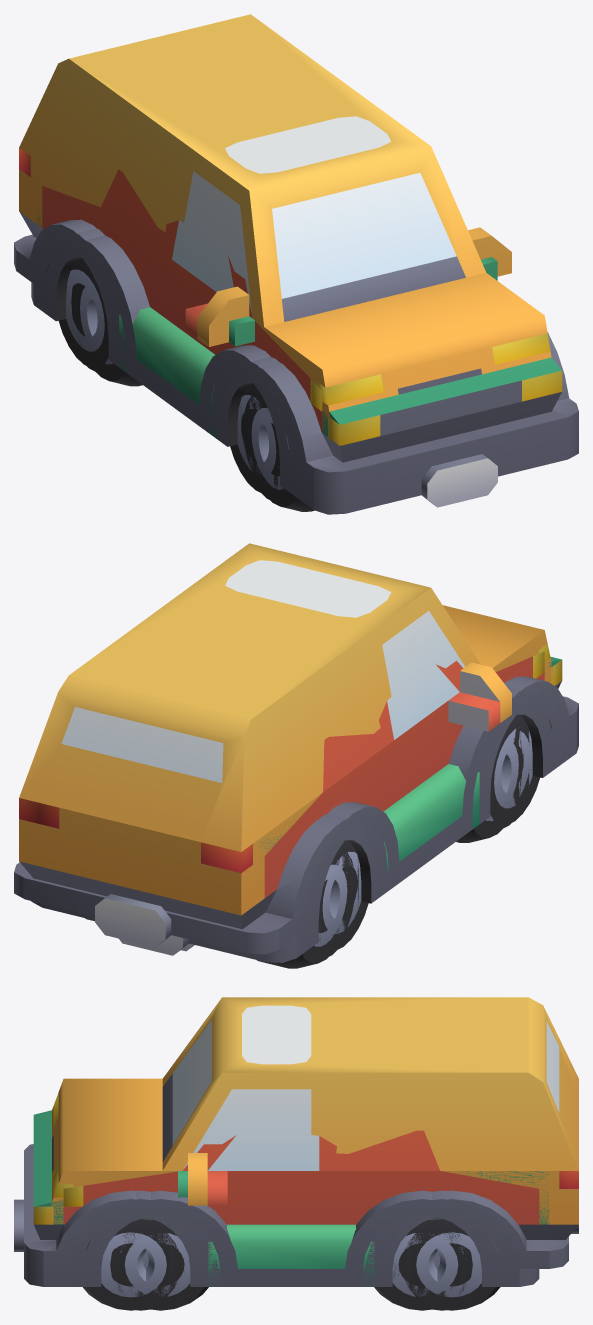
File: showroom-cars.glb
The picture shows the model from 3 angles, top to bottom: view 1: azimuth 30°, elevation 25°; view 2: azimuth 150°, elevation 25°; view 3: azimuth 270°, elevation 25°; orthographic projection. The views are drawn at different scales.
Parts seen in each view (by area): view 1: body (×3), wheel-front-right (×2), wheel-back-right (×2); view 2: body (×3), wheel-back-right (×2), wheel-front-right (×3); view 3: body (×3), wheel-back-left (×2), wheel-front-left (×2).
Part boxes in pixels (bbox=[...]): body (×3): bbox=[14, 14, 578, 514]; wheel-front-right (×2): bbox=[230, 383, 314, 511]; wheel-back-right (×2): bbox=[58, 258, 142, 386]; body (×3): bbox=[14, 543, 578, 962]; wheel-back-right (×2): bbox=[257, 840, 368, 968]; wheel-front-right (×3): bbox=[456, 714, 540, 842]; body (×3): bbox=[14, 997, 578, 1286]; wheel-back-left (×2): bbox=[374, 1219, 500, 1310]; wheel-front-left (×2): bbox=[83, 1219, 208, 1310].
Size of the model in its own units: 1.5 by 1.3 by 2.85.
1 material, 1 textured.
